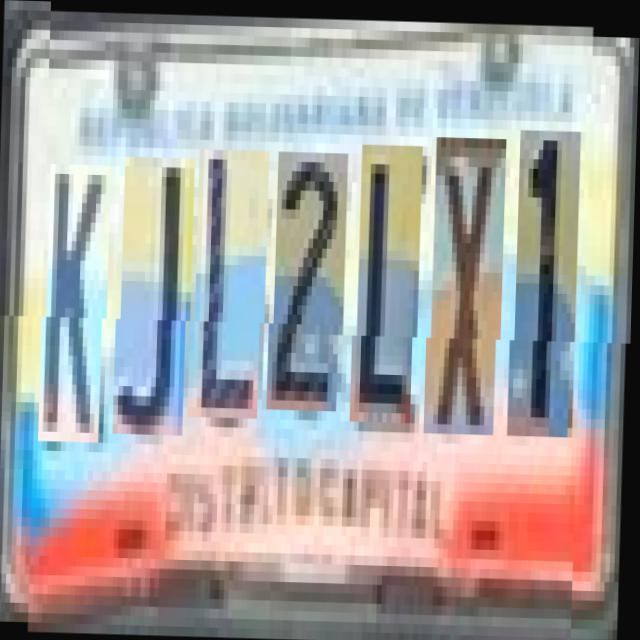1: (514, 127, 582, 434)
2: (273, 150, 349, 410)
J: (120, 156, 196, 435)
K: (46, 164, 112, 442)
L: (194, 148, 270, 417), (356, 142, 424, 420)
X: (431, 134, 507, 432)
